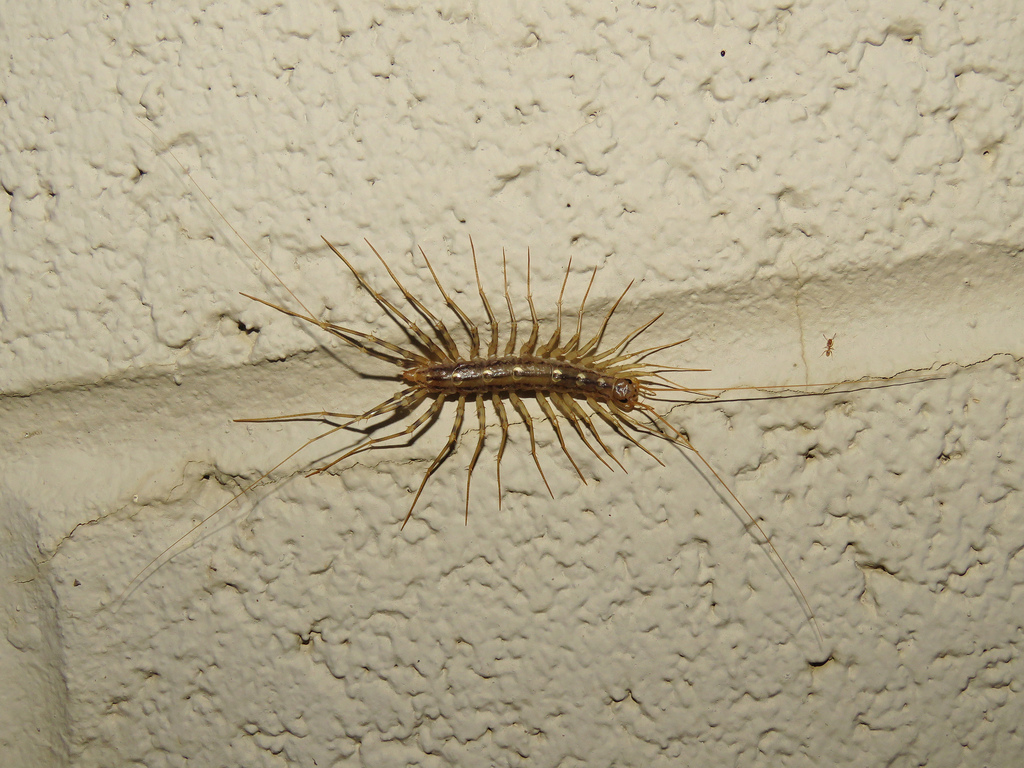centipede: (239, 235, 771, 532)
